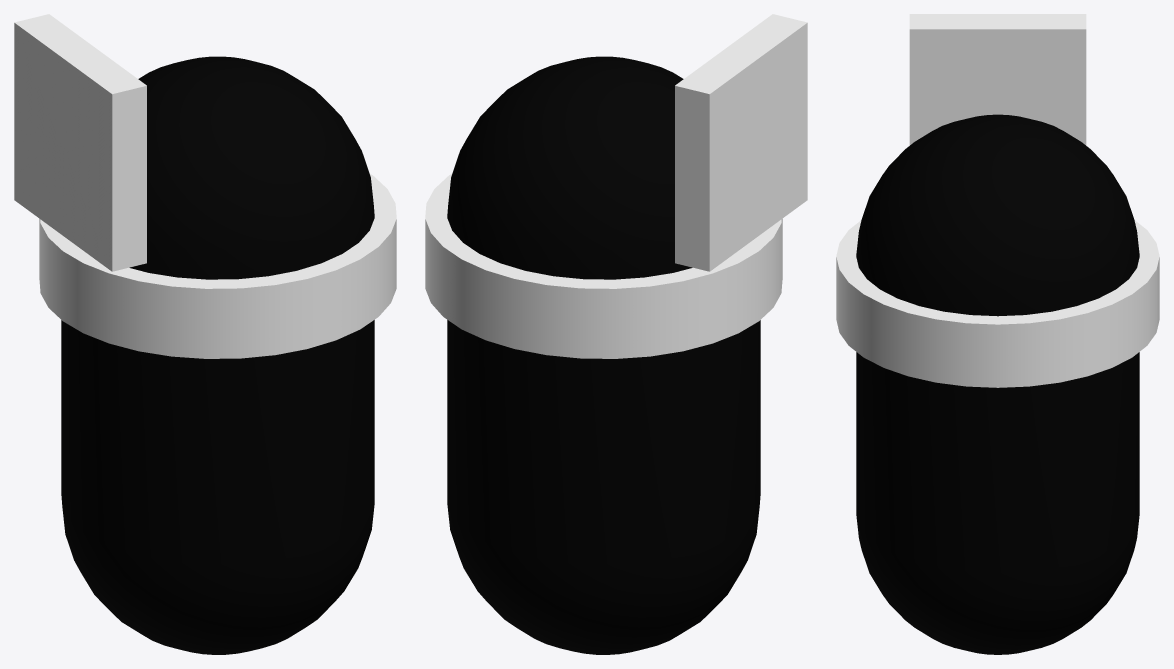
File: Unit8.fbx
3 views of the same model, side by side, from view 1: azimuth 30°, elevation 25°; view 2: azimuth 150°, elevation 25°; view 3: azimuth 270°, elevation 25° (orthographic). The views are drawn at different scales.
Parts seen in each view (by area): view 1: Sphere; view 2: Sphere; view 3: Sphere.
Part boxes in pixels (x1,y1,x2,y2): Sphere: [14, 14, 396, 654]; Sphere: [425, 14, 807, 654]; Sphere: [836, 14, 1159, 654].
Size of the model in its own units: 1.14 by 2.18 by 1.14.
Materials: 1 (1 with a texture image).
